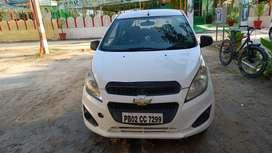PB02CC7299: (121, 111, 162, 122)
